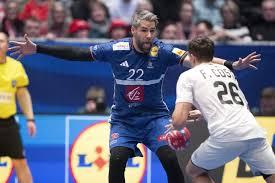ballon_handball: (166, 125, 190, 153)
